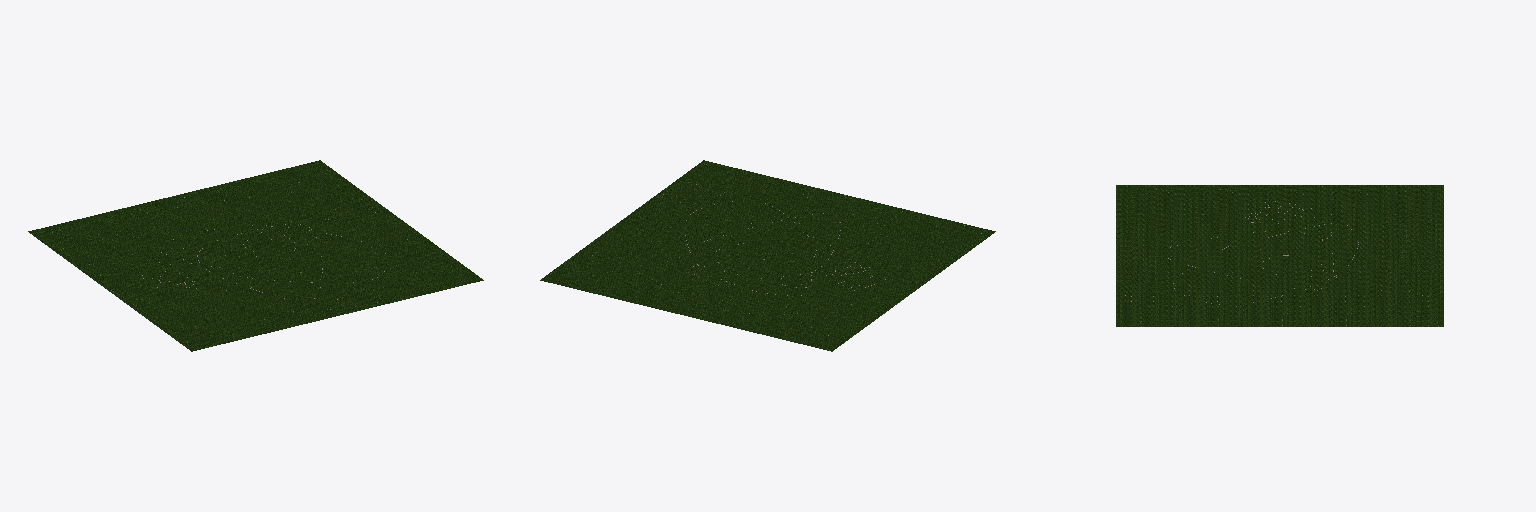
The picture shows the model from 3 angles: view 1: azimuth 30°, elevation 25°; view 2: azimuth 150°, elevation 25°; view 3: azimuth 270°, elevation 25°; orthographic projection.
Parts seen in each view (by area): view 1: Plane002; view 2: Plane002; view 3: Plane002.
Part boxes in pixels (x1,y1,x2,y2): Plane002: (28, 160, 483, 351); Plane002: (540, 160, 995, 351); Plane002: (1116, 185, 1443, 326).
Size of the model in its own units: 9070 by 7.63 by 8809.
Materials: 4 (1 with a texture image).